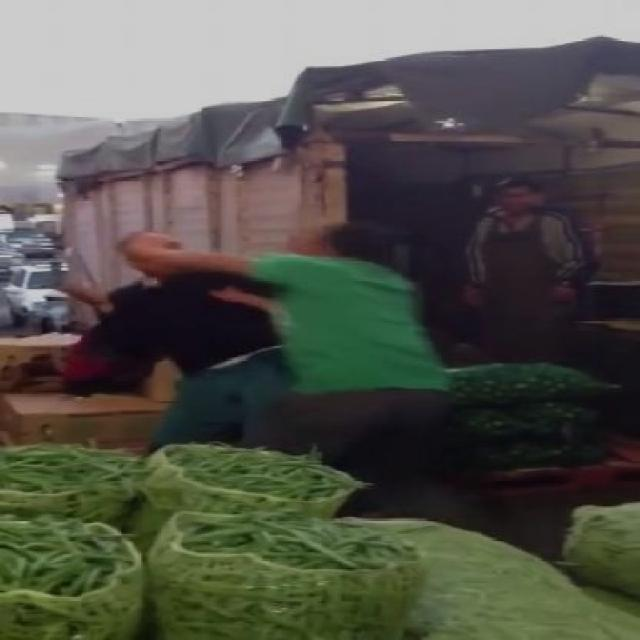fight: (57, 225, 445, 502)
non-fight: (440, 154, 608, 374)
